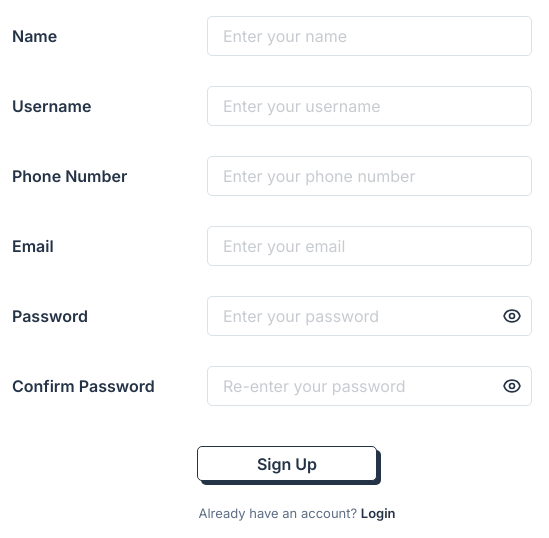
Test case: SignUp › should show two text fields
Click the field labelled "Name" at (370, 36), box x1=207 y1=16 x2=532 y2=56
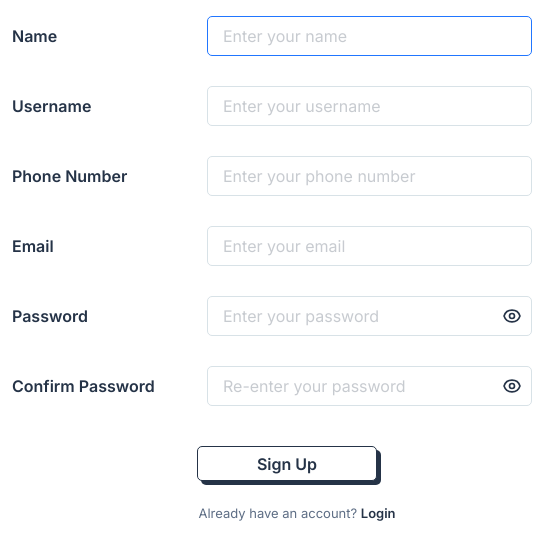
Type keys "john"
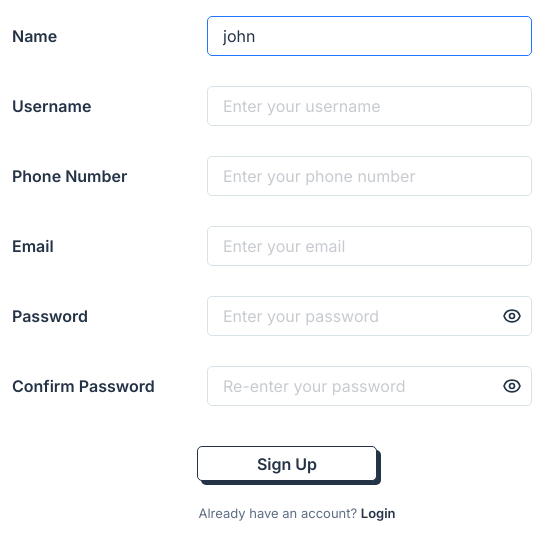
Now the field labelled "Name" holds "john", box x1=207 y1=16 x2=532 y2=56
Click the field labelled "Username" at (370, 106), box x1=207 y1=86 x2=532 y2=126
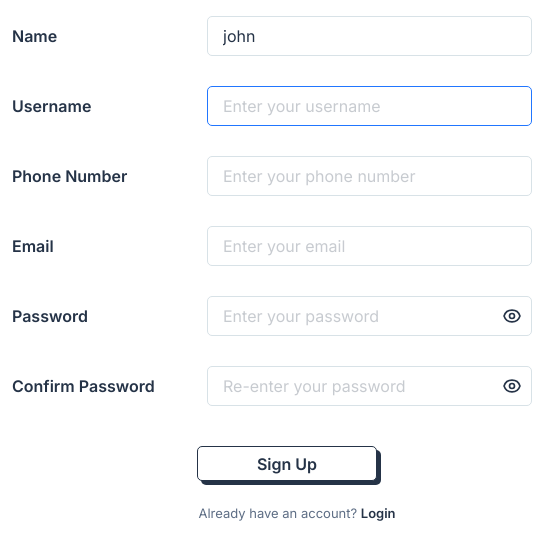
Type keys "johnDoe"
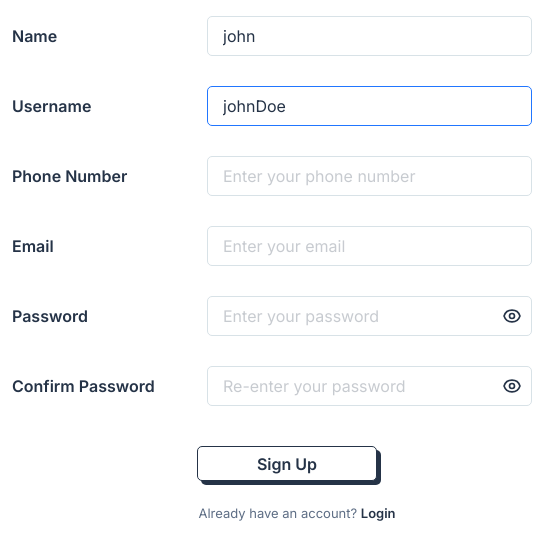
Now the field labelled "Username" holds "johnDoe", box x1=207 y1=86 x2=532 y2=126
